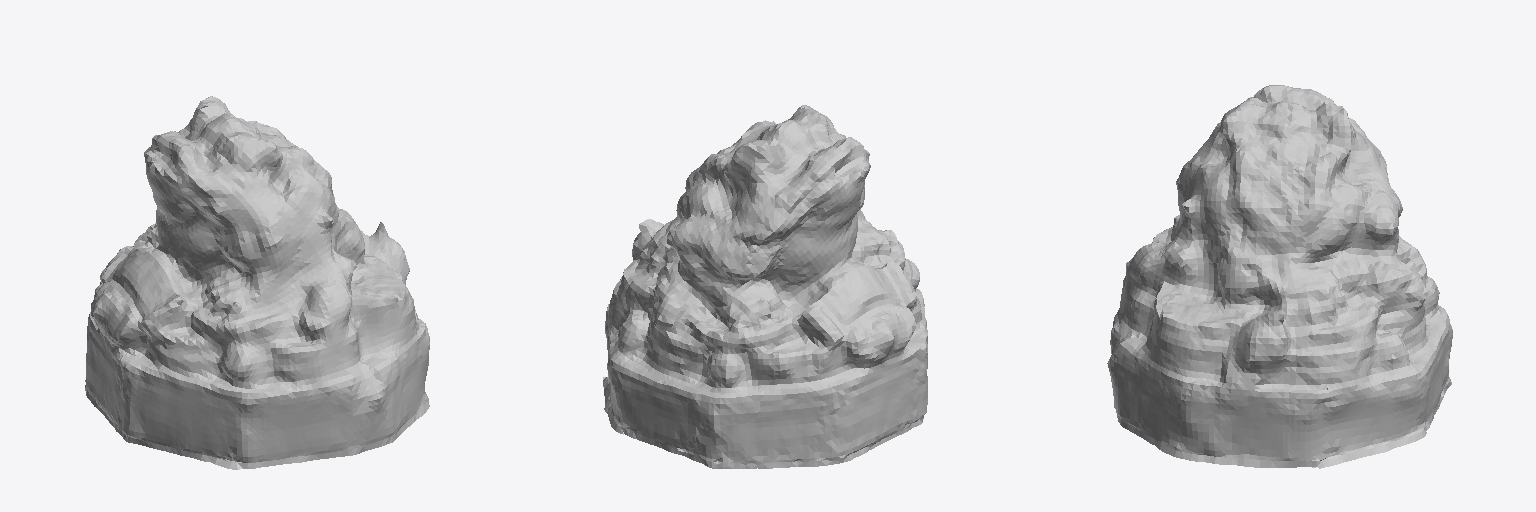
File: frog.obj
The picture shows the model from 3 angles: view 1: azimuth 30°, elevation 25°; view 2: azimuth 150°, elevation 25°; view 3: azimuth 270°, elevation 25°; orthographic projection.
Parts seen in each view (by area): view 1: retopo; view 2: retopo; view 3: retopo.
Boxes of the visible parts, x1=… form: retopo: x1=85, y1=96, x2=429, y2=469; retopo: x1=603, y1=105, x2=927, y2=468; retopo: x1=1107, y1=85, x2=1452, y2=468.
Bounding box in the file's own units: 0.4152 × 0.389 × 0.4284.